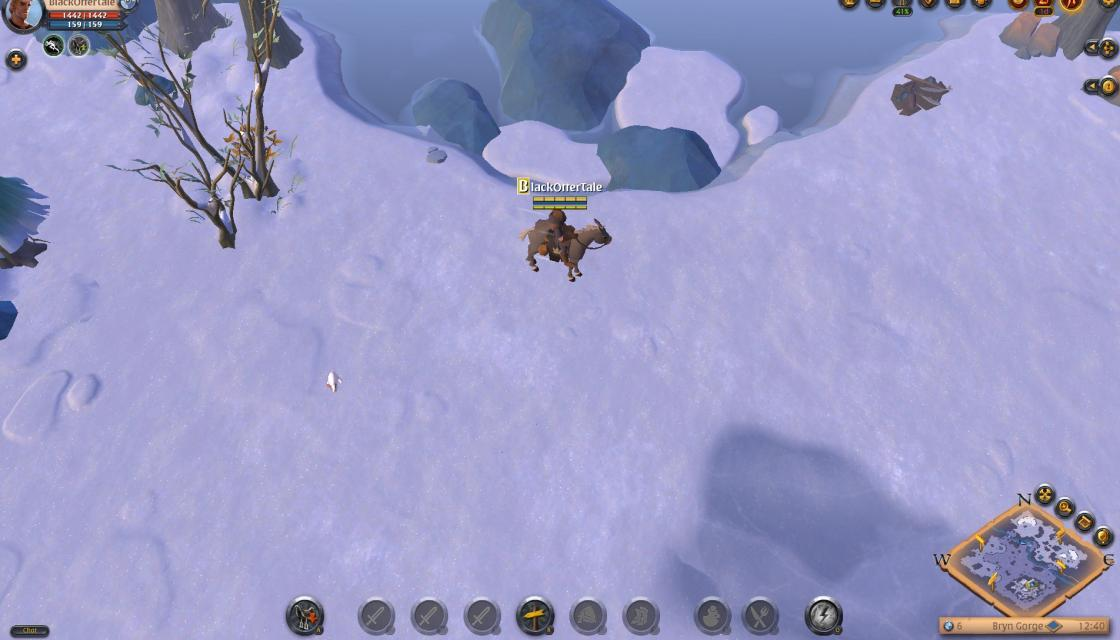limestone: (996, 11, 1065, 64)
